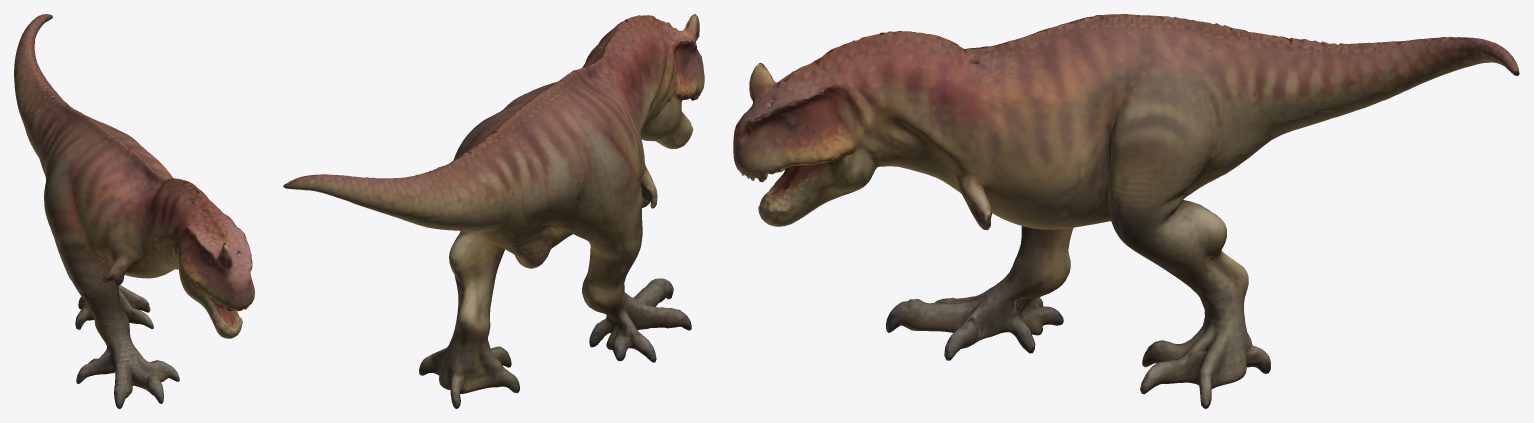
The picture shows the model from 3 angles, left to right: view 1: azimuth 30°, elevation 25°; view 2: azimuth 150°, elevation 25°; view 3: azimuth 270°, elevation 25°; orthographic projection. The views are drawn at different scales.
Visible parts, largest first — view 1: world; view 2: world; view 3: world.
Boxes of the visible parts, <box> form: world: <box>14,14,254,408</box>; world: <box>283,14,704,408</box>; world: <box>733,14,1519,408</box>.
Bounding box in the file's own units: 2.14 × 3.49 × 7.
1 material, 1 textured.
